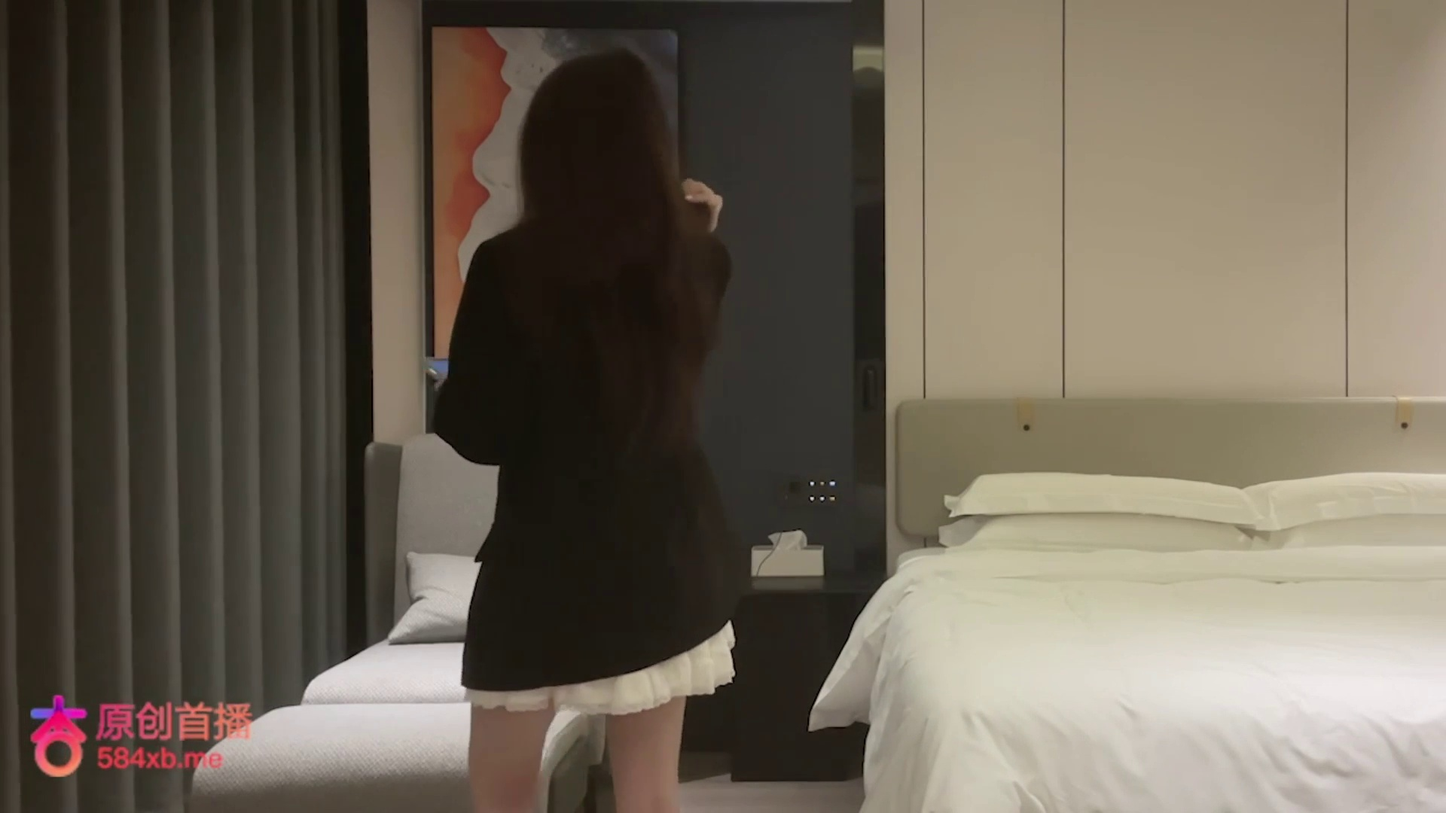stand: (429, 46, 754, 810)
